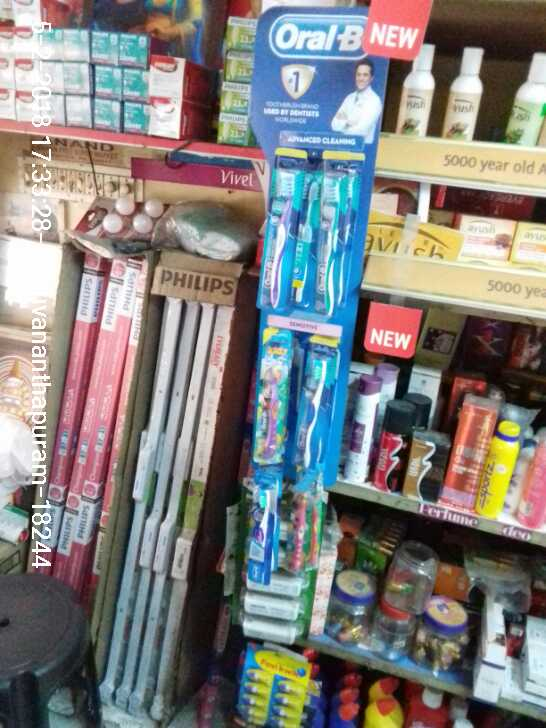oralb: (258, 143, 305, 319), (317, 148, 360, 321), (296, 334, 338, 477), (249, 326, 291, 464), (248, 464, 279, 585)
